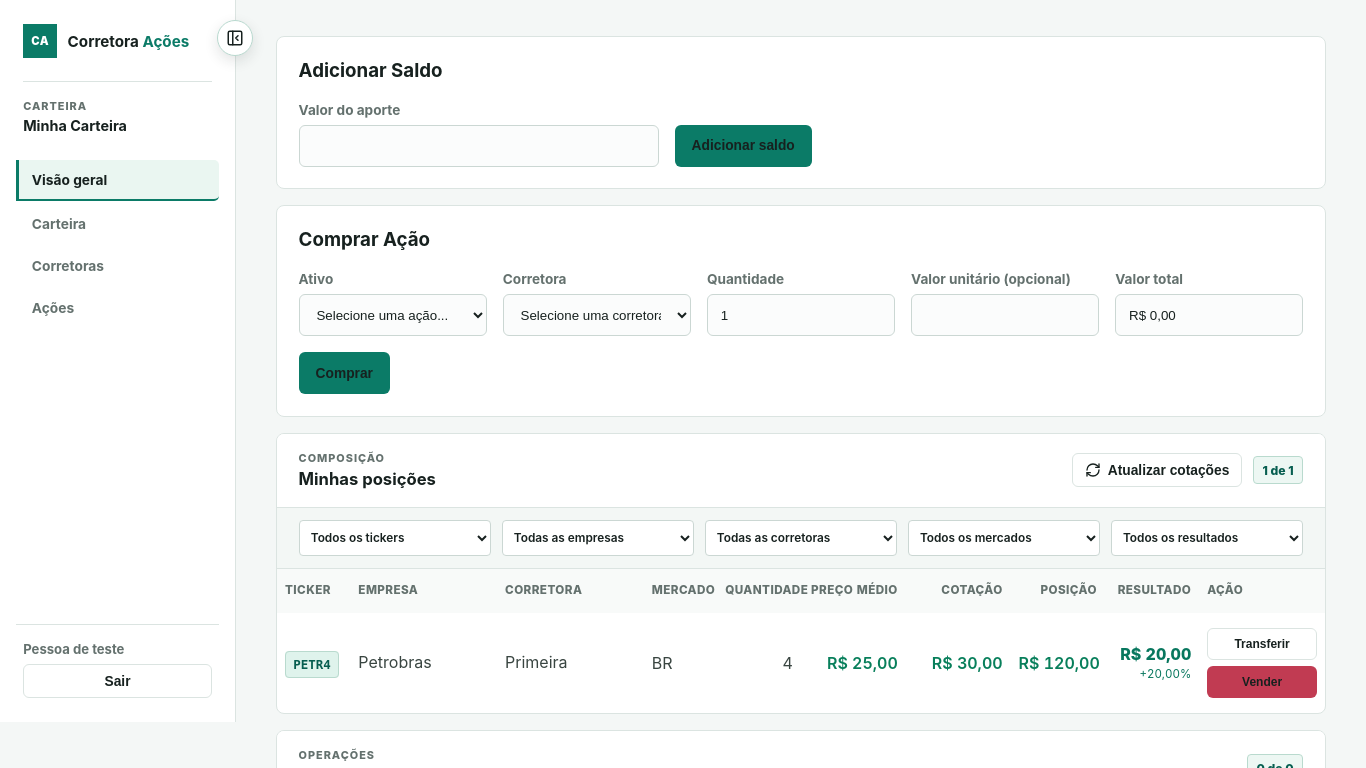
it: operacoes da carteira › registra venda com quantidade e preco informados
Expected: the cell "Petrobras" is shown, [350,613,497,713]
Click the button "Vender".
click(1262, 682)  # box [1207,666,1317,698]
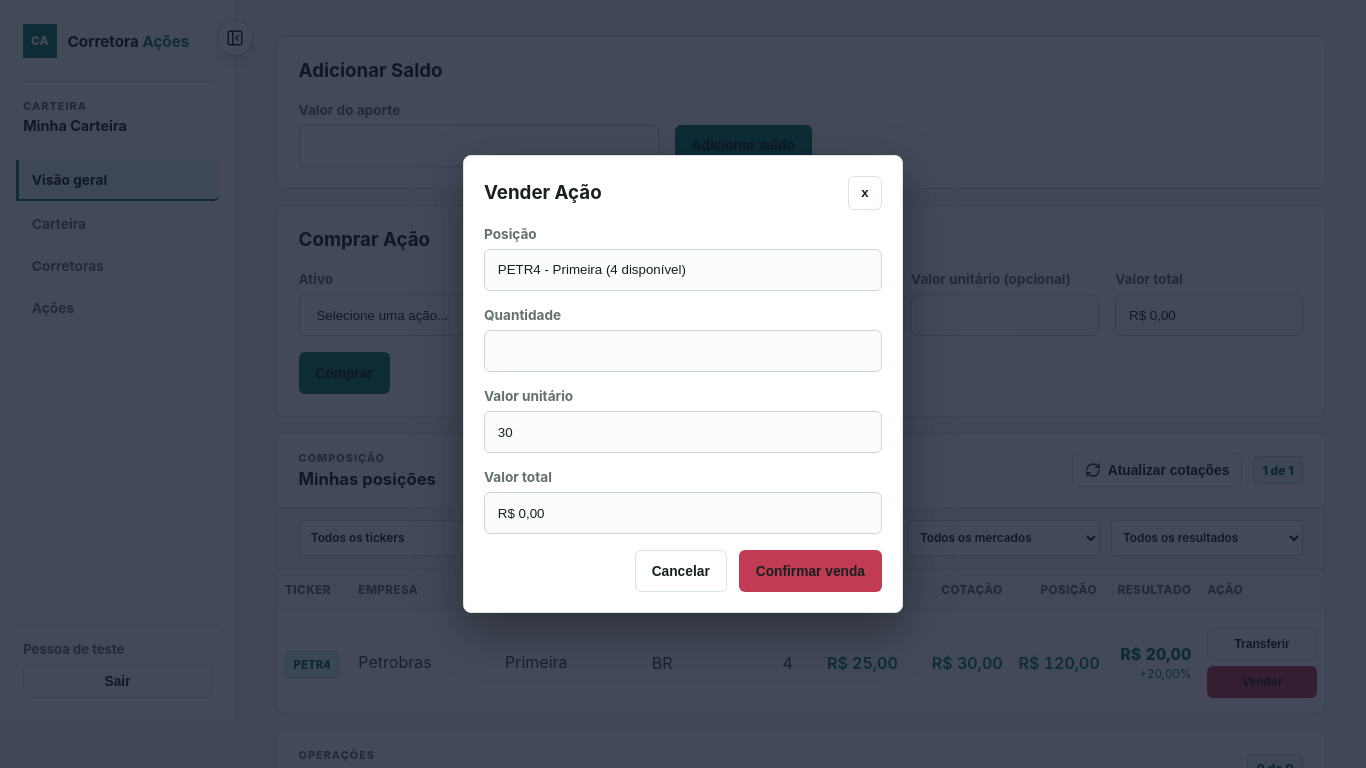
Type "2" into the 1st number field.
click(683, 351); type("2")  # box [484,330,882,372]
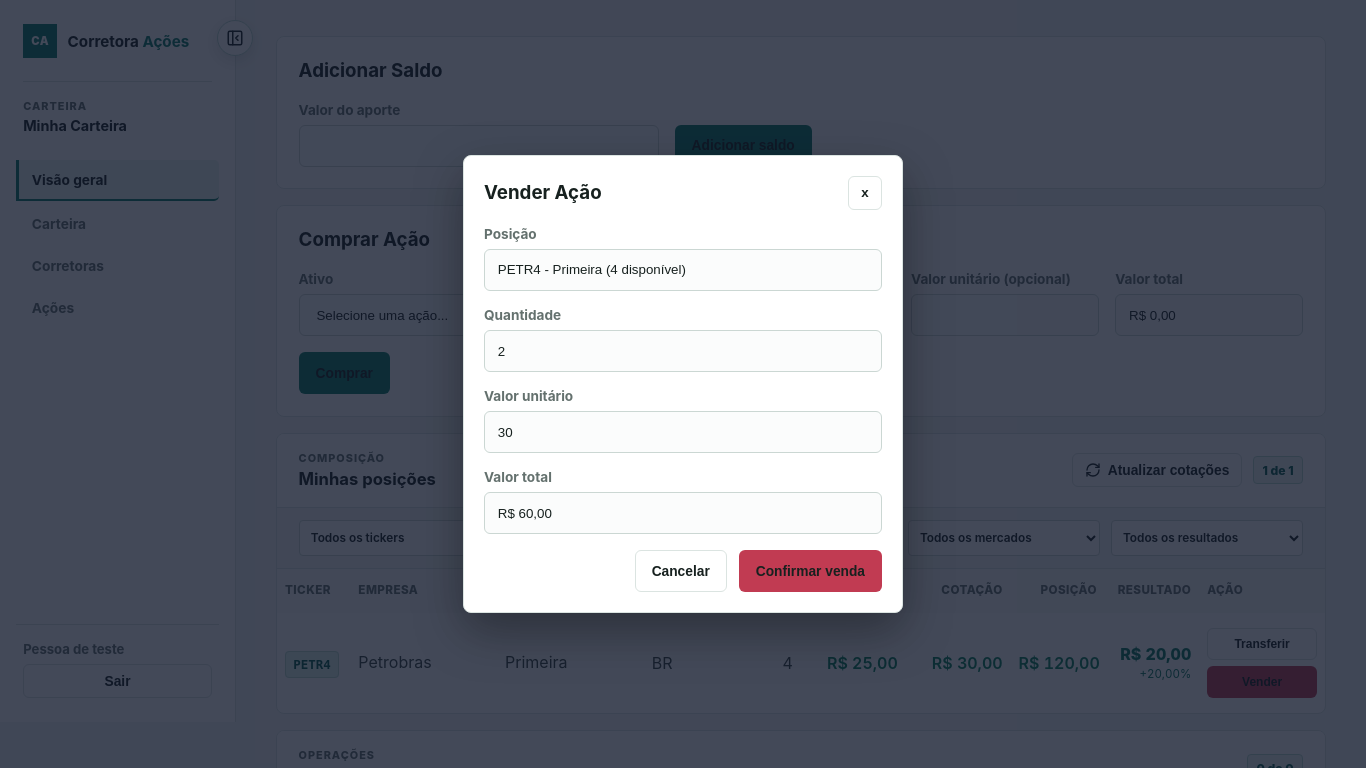
Replace the text in the 2nd number field with "35" at (683, 432), box [484,411,882,453]
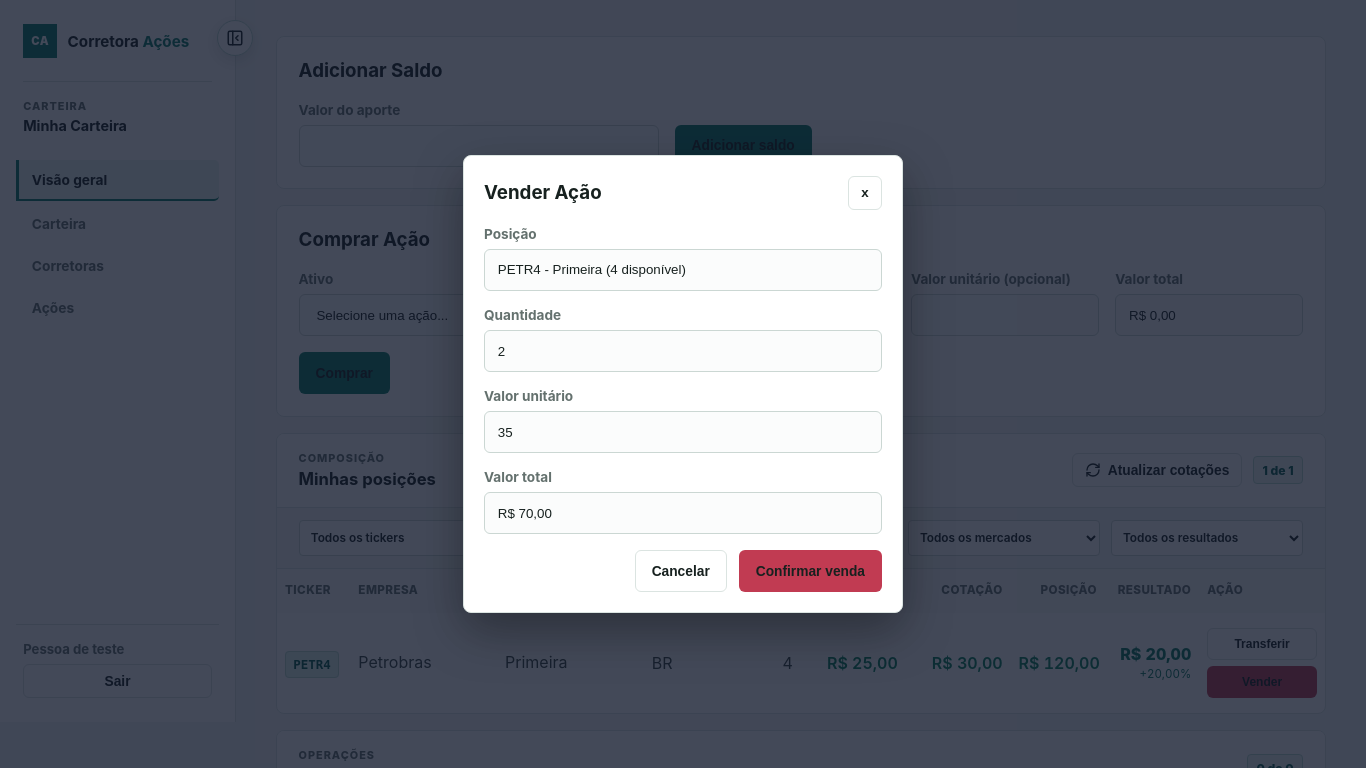
Submit the form "Confirmar venda", box [484,226,882,592]
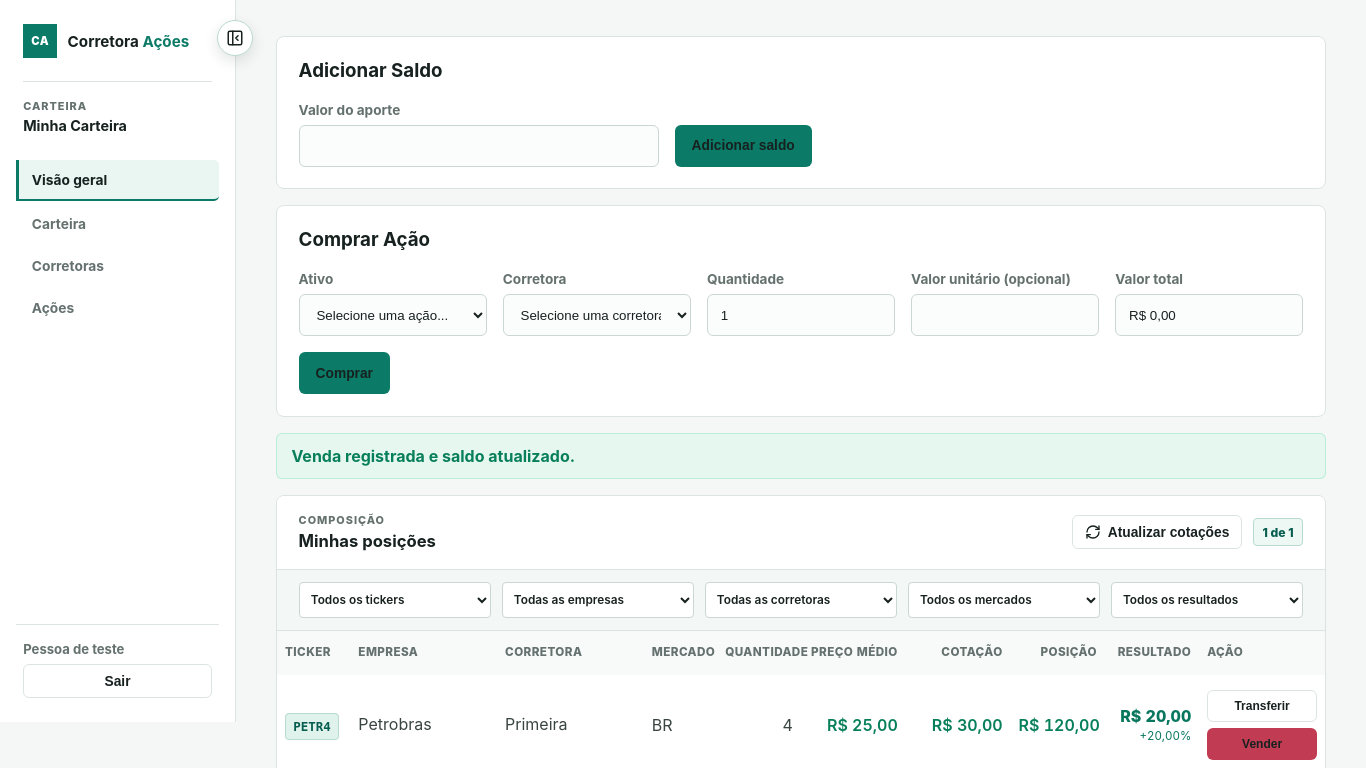
Expected: the text "Venda registrada e saldo atualizado." is shown, [276,433,1326,479]
